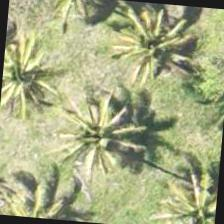Kelapa_Sawit: (49, 88, 147, 186), (99, 0, 197, 92), (151, 167, 220, 223)
